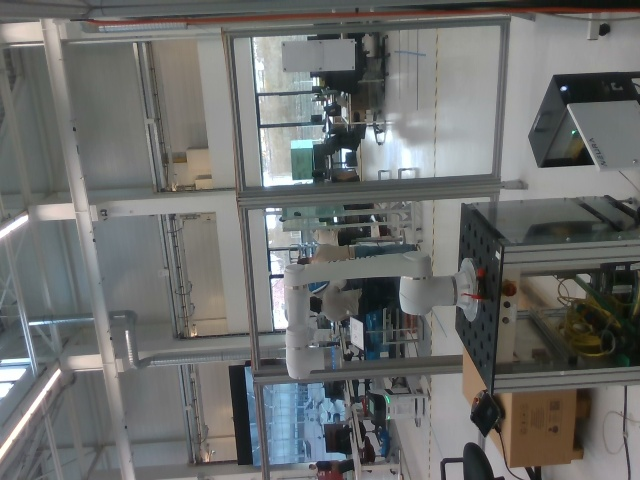Robot arm: (284, 251, 477, 378)
